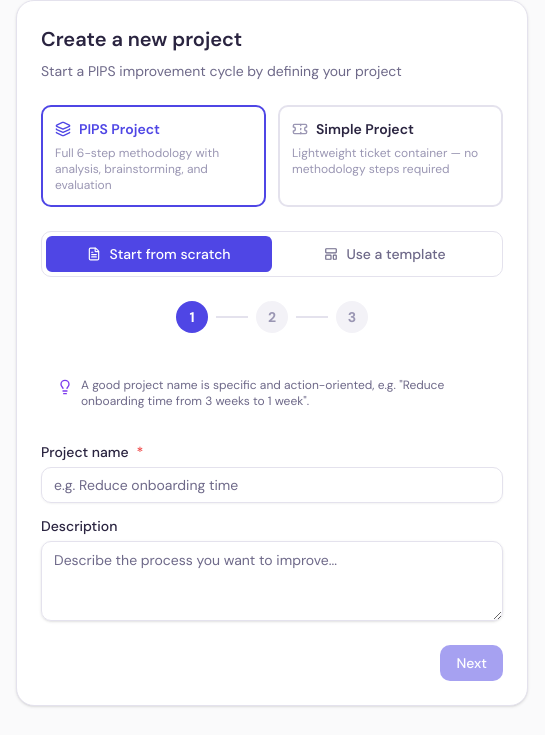
Test: ProjectForm › switches back to blank mode
Click the button with test id "mode-template".
click(385, 254)  # box [272, 236, 498, 272]
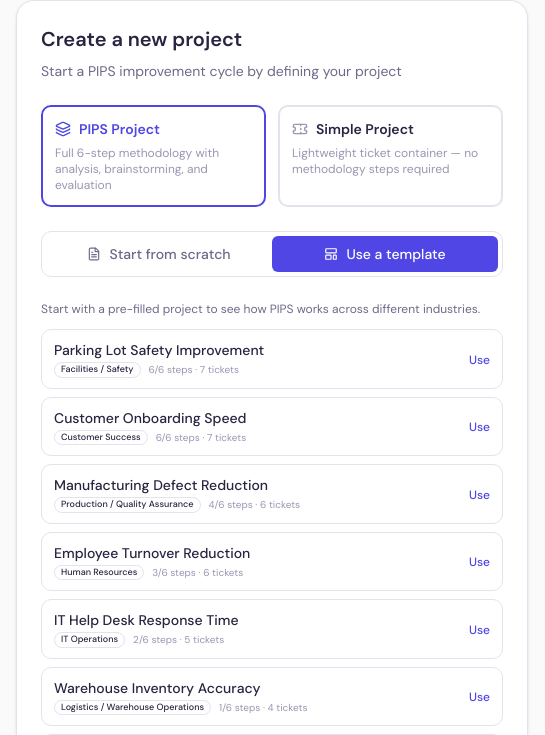
Click the button with test id "mode-blank".
click(159, 254)  # box [46, 236, 272, 272]
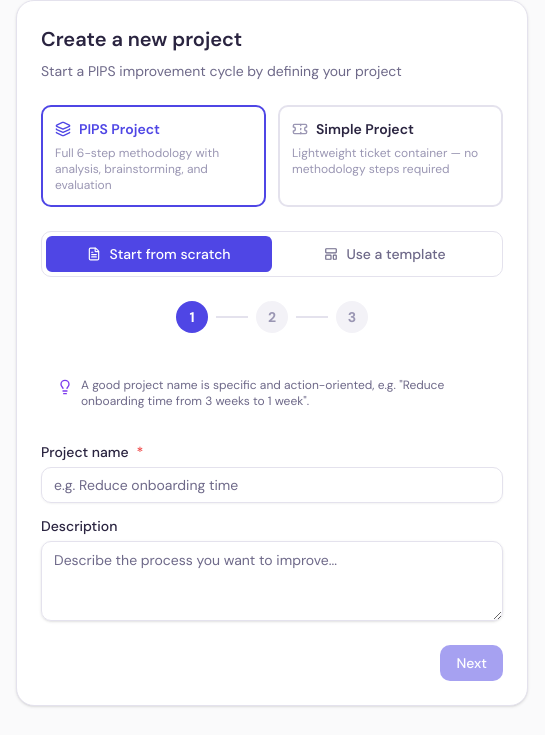
Now the element with test id "stepper" is shown, box [176, 301, 368, 333]
